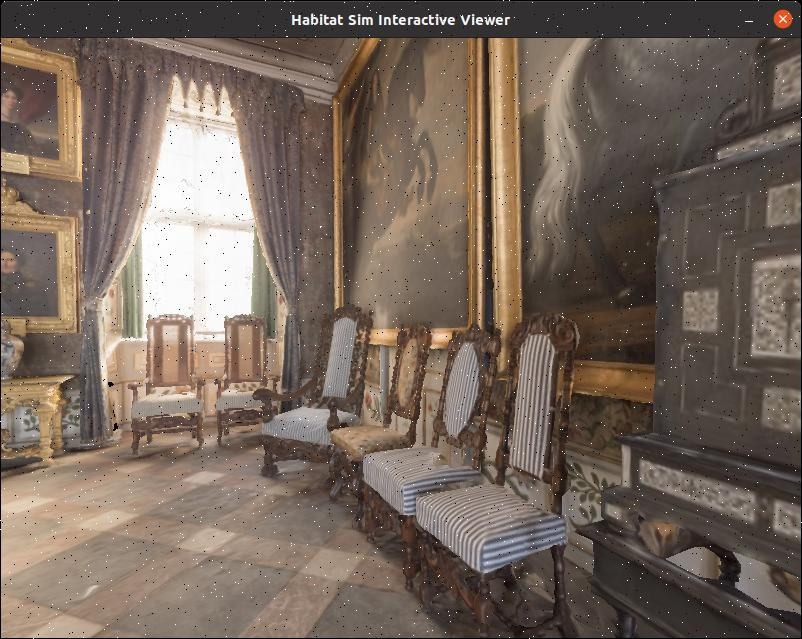chair: (400, 305, 615, 636), (358, 305, 513, 543), (262, 293, 387, 492), (330, 321, 441, 507), (128, 303, 221, 487), (222, 289, 293, 452)
